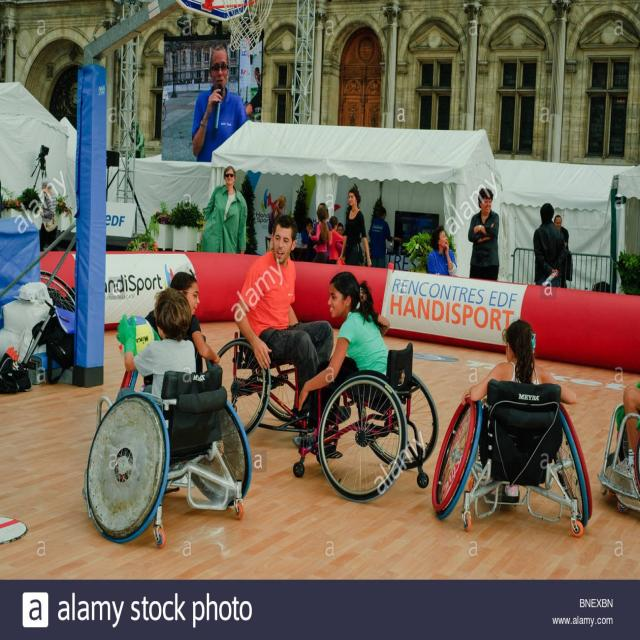body: (232, 213, 352, 426), (291, 270, 391, 452), (460, 318, 579, 408), (183, 40, 264, 164), (141, 271, 222, 388), (116, 287, 197, 403), (199, 165, 248, 255), (467, 188, 500, 280), (532, 202, 566, 288), (337, 186, 372, 268), (619, 376, 640, 478), (368, 206, 397, 268), (427, 225, 458, 278), (553, 214, 573, 289), (39, 181, 58, 253), (125, 119, 149, 174), (310, 205, 330, 265), (310, 206, 330, 264), (327, 214, 347, 265), (268, 194, 288, 236), (300, 217, 314, 244), (334, 220, 346, 237)
